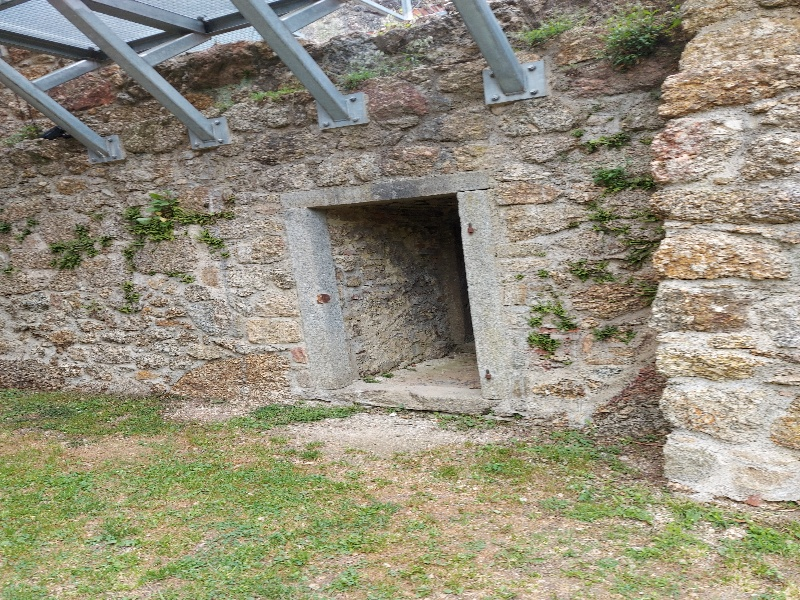door1: (273, 172, 536, 418)
